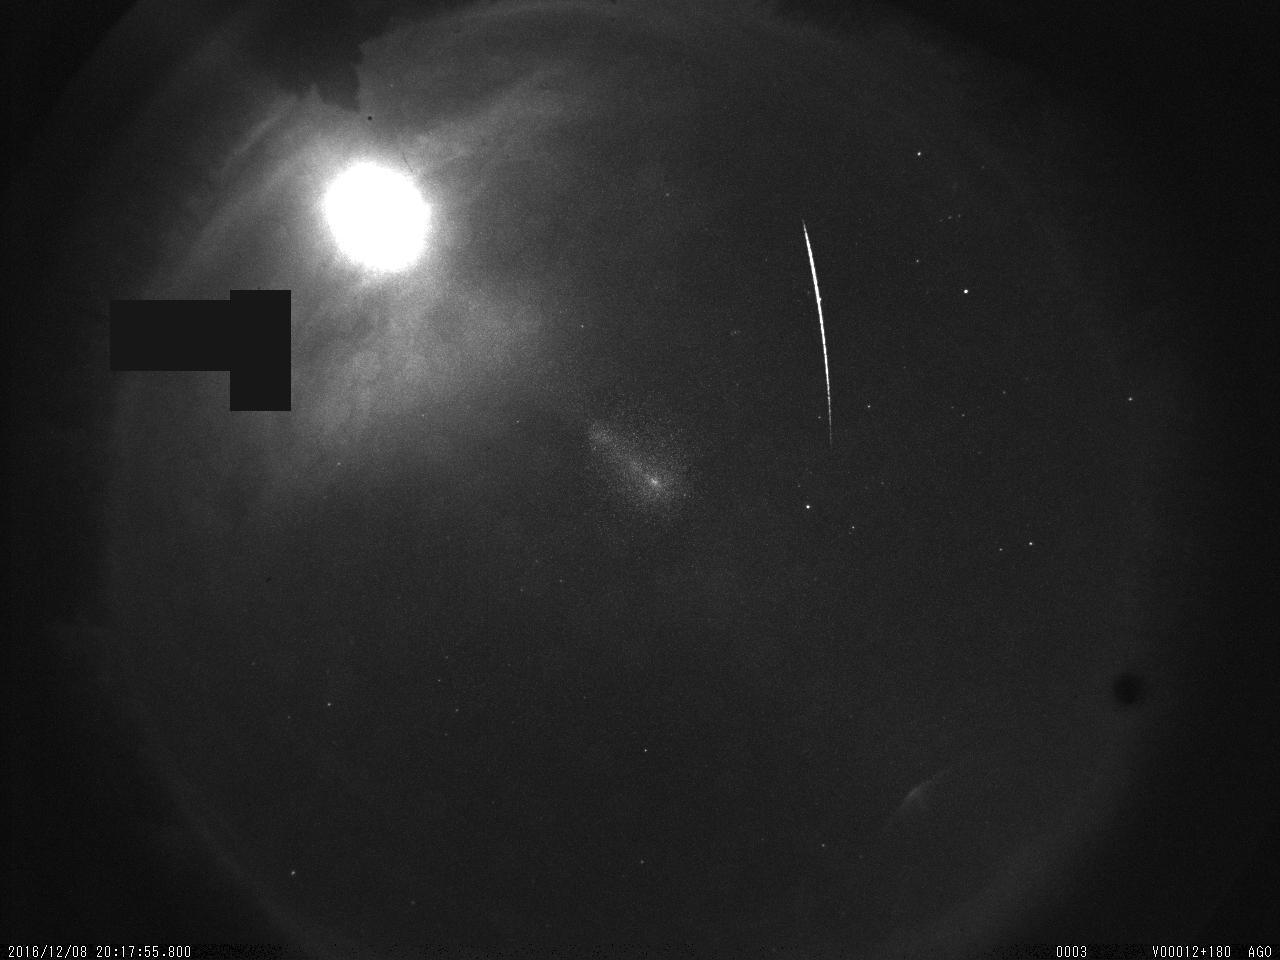meteor: (768, 207, 864, 464)
